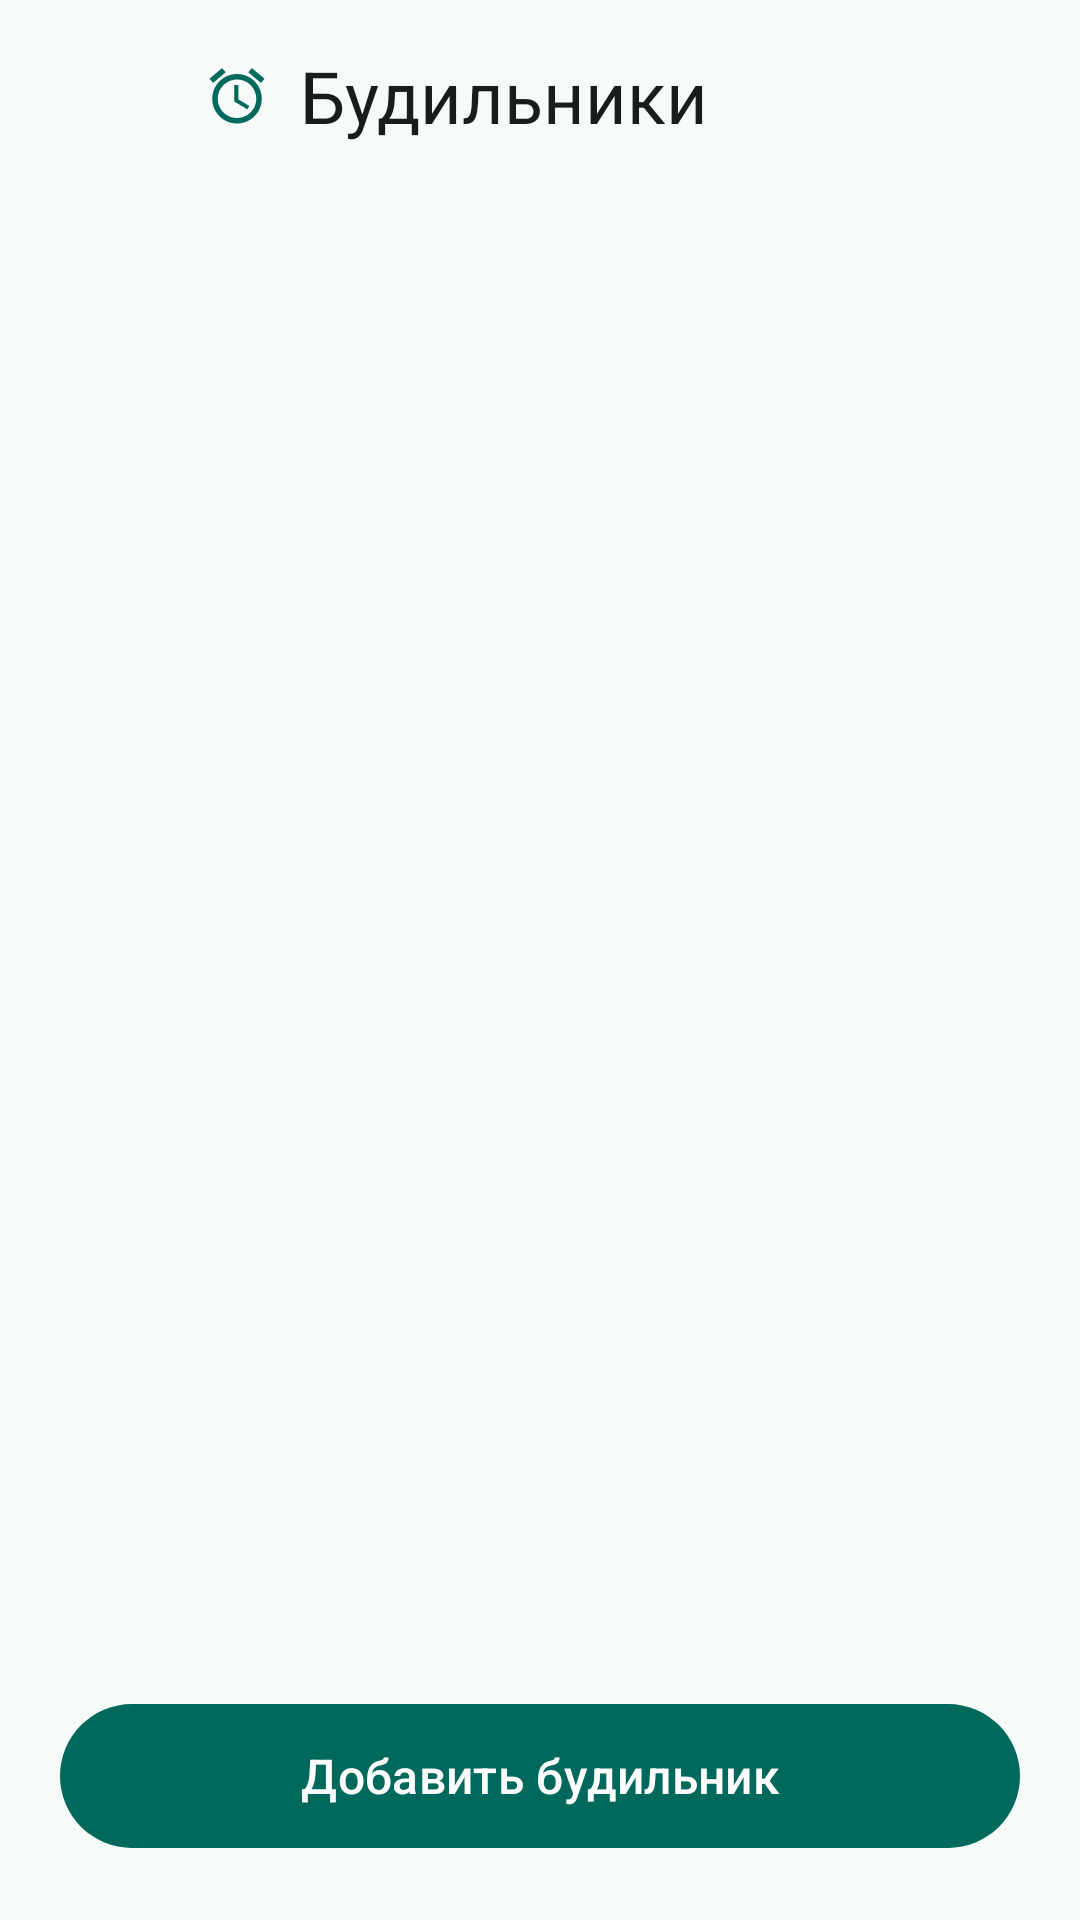

Locate icon controls on the screen. Image size 1080 x 1920, boxes as (x1, y1, x2, y2).
alarm: (209, 68, 265, 124)
